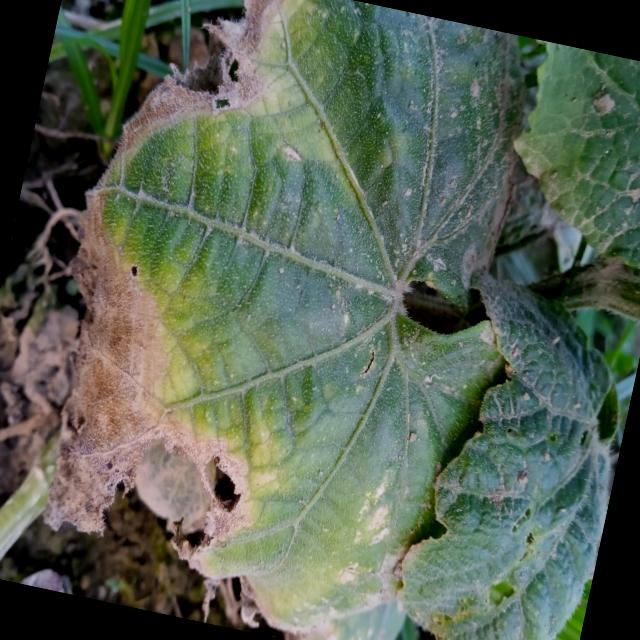cucumber_gummy: (5, 0, 571, 640)
